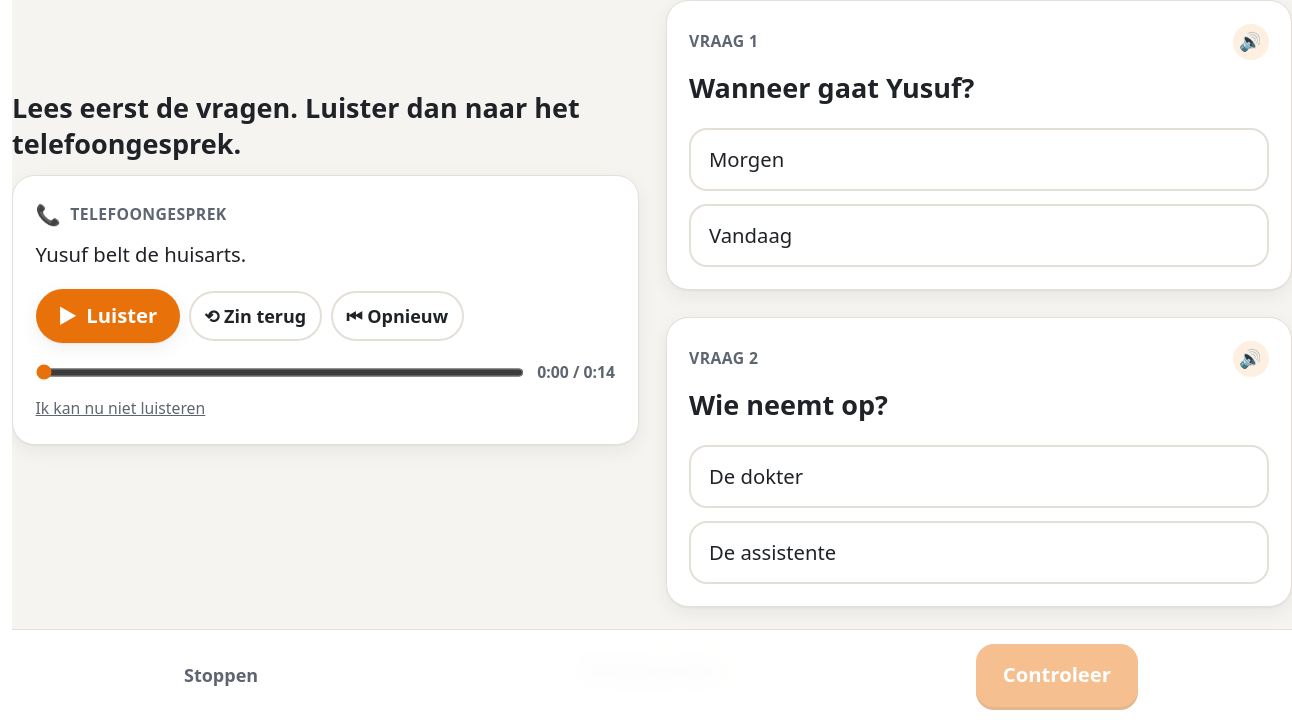
Test: a listening exercise in the shell › saves one attempt per question and stops the fragment when the answers are checked
Click the button "▶ Luister": (108, 316) [36,289,180,343]
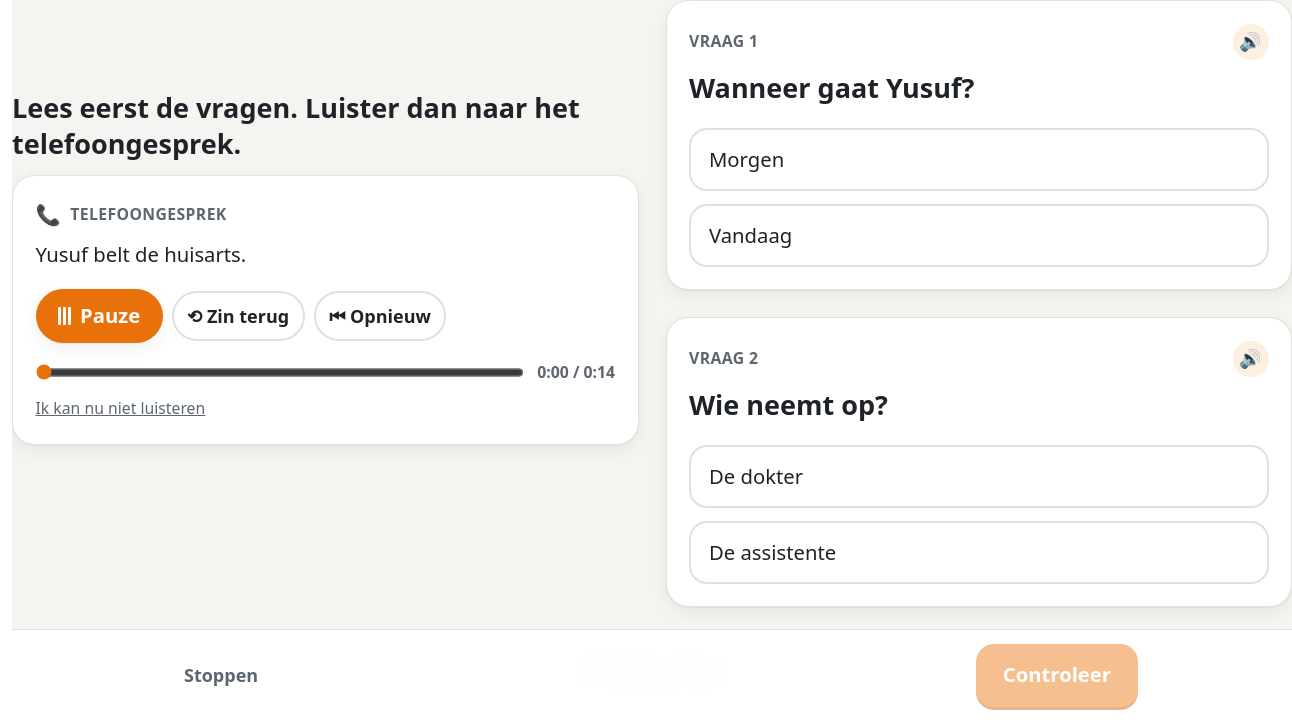
Click the button "Morgen": (747, 159) [689,128,1268,191]
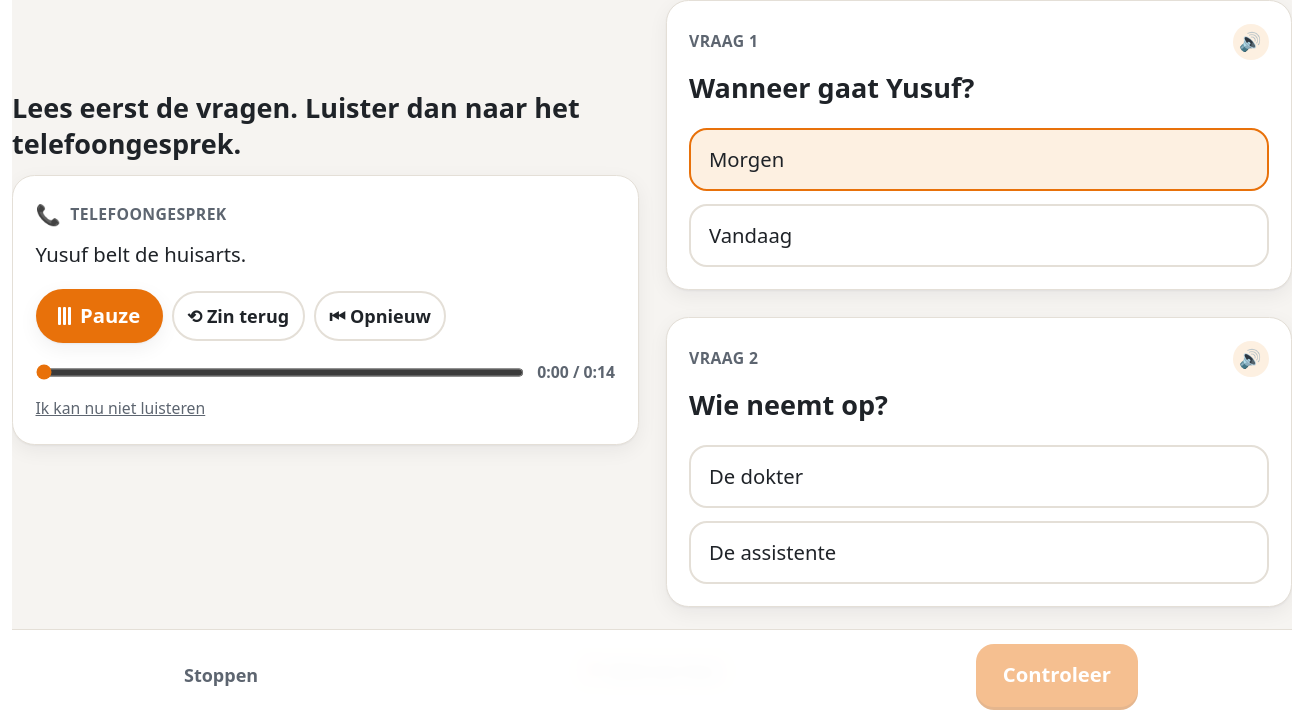
Click the button "De assistente": (773, 552) [689,521,1268,584]
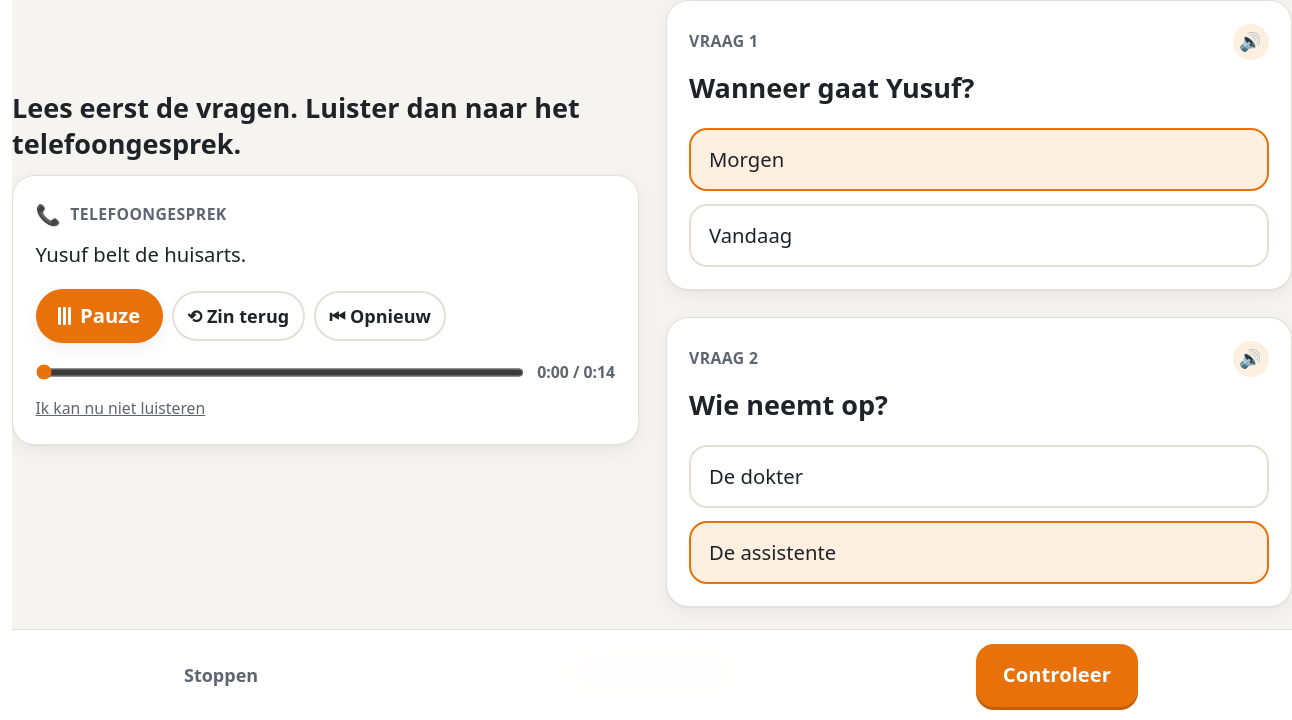
Click the button "Controleer": (1057, 675) [976,644,1138,706]
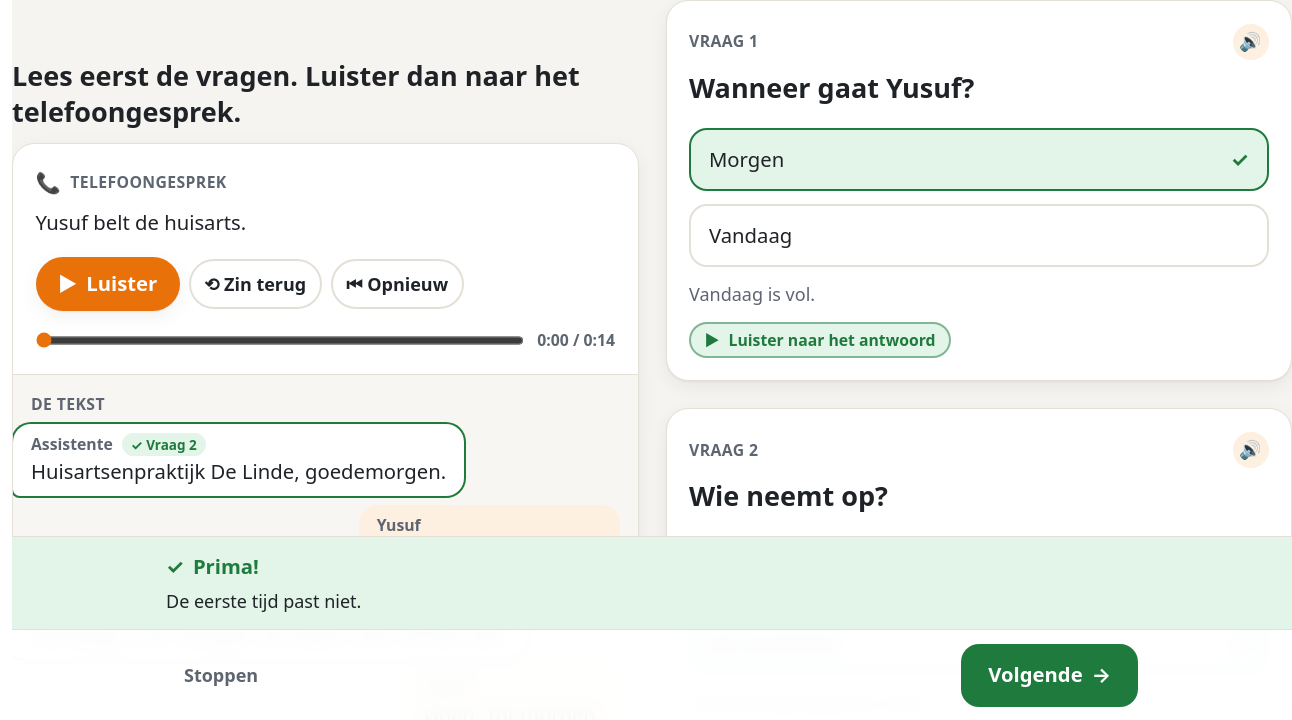
Expected: the text "De eerste tijd past niet." is shown, [166,589,361,613]
